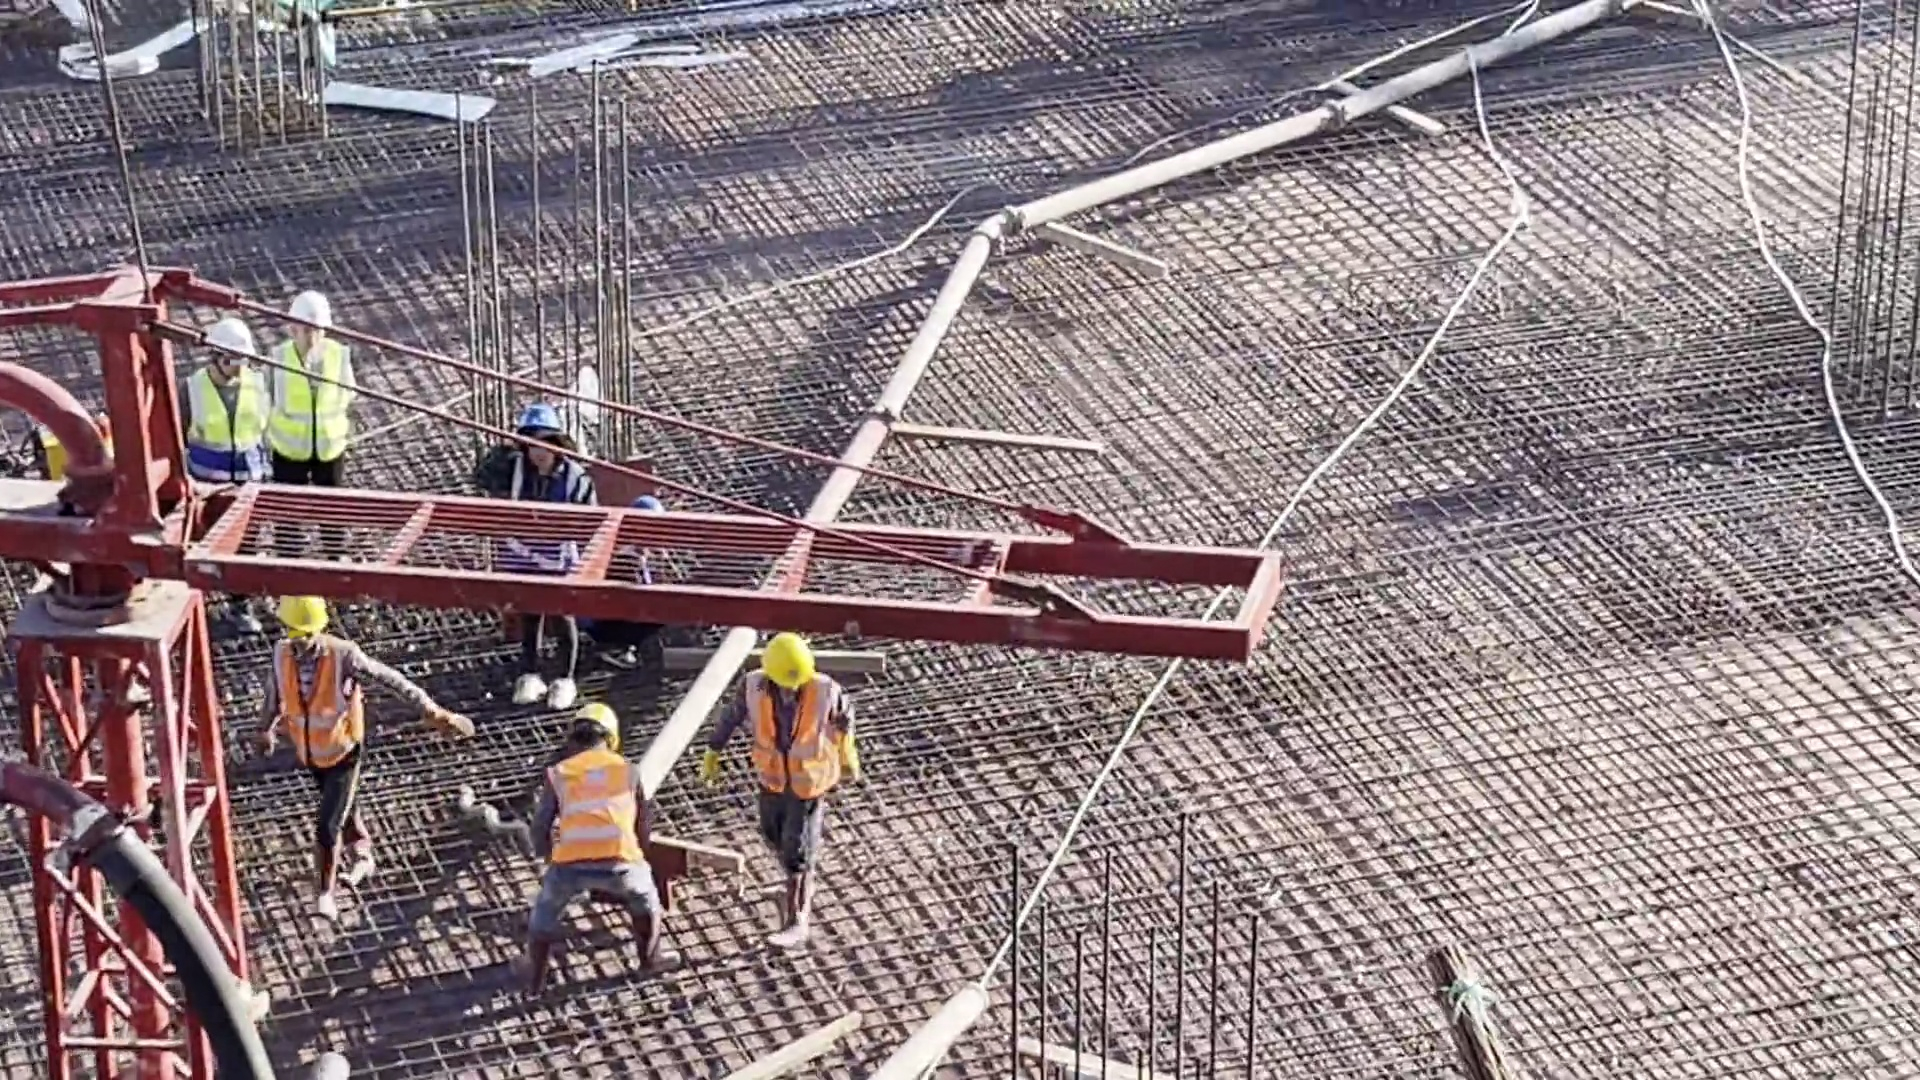helmet: (280, 596, 355, 649), (515, 407, 581, 460), (280, 292, 344, 340), (753, 638, 809, 690), (570, 698, 624, 738), (211, 329, 258, 365), (626, 496, 660, 515)
person: (241, 571, 482, 927), (504, 701, 677, 1008), (697, 626, 855, 956), (473, 405, 615, 716), (259, 286, 367, 504), (164, 306, 270, 497), (590, 502, 678, 677)
vest: (271, 630, 369, 786), (741, 684, 838, 814), (551, 749, 633, 883), (268, 345, 356, 460), (505, 467, 588, 572), (190, 375, 269, 472)
